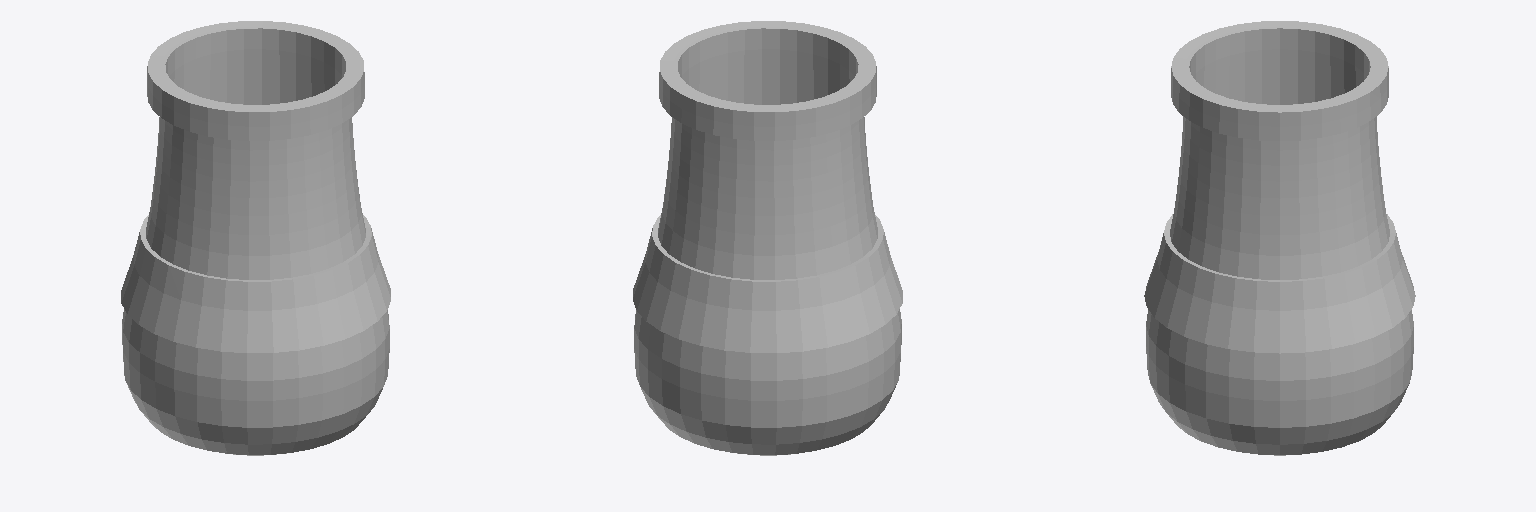
File: cannon_5.obj
The picture shows the model from 3 angles: view 1: azimuth 30°, elevation 25°; view 2: azimuth 150°, elevation 25°; view 3: azimuth 270°, elevation 25°; orthographic projection.
Parts seen in each view (by area): view 1: 炮管.003_柱体.009; view 2: 炮管.003_柱体.009; view 3: 炮管.003_柱体.009.
Boxes of the visible parts, x1,y1,x2,y2 form: 炮管.003_柱体.009: [121, 21, 390, 455]; 炮管.003_柱体.009: [633, 21, 902, 455]; 炮管.003_柱体.009: [1144, 21, 1415, 455].
Bounding box in the file's own units: 0.8991 × 1.38 × 0.8991.